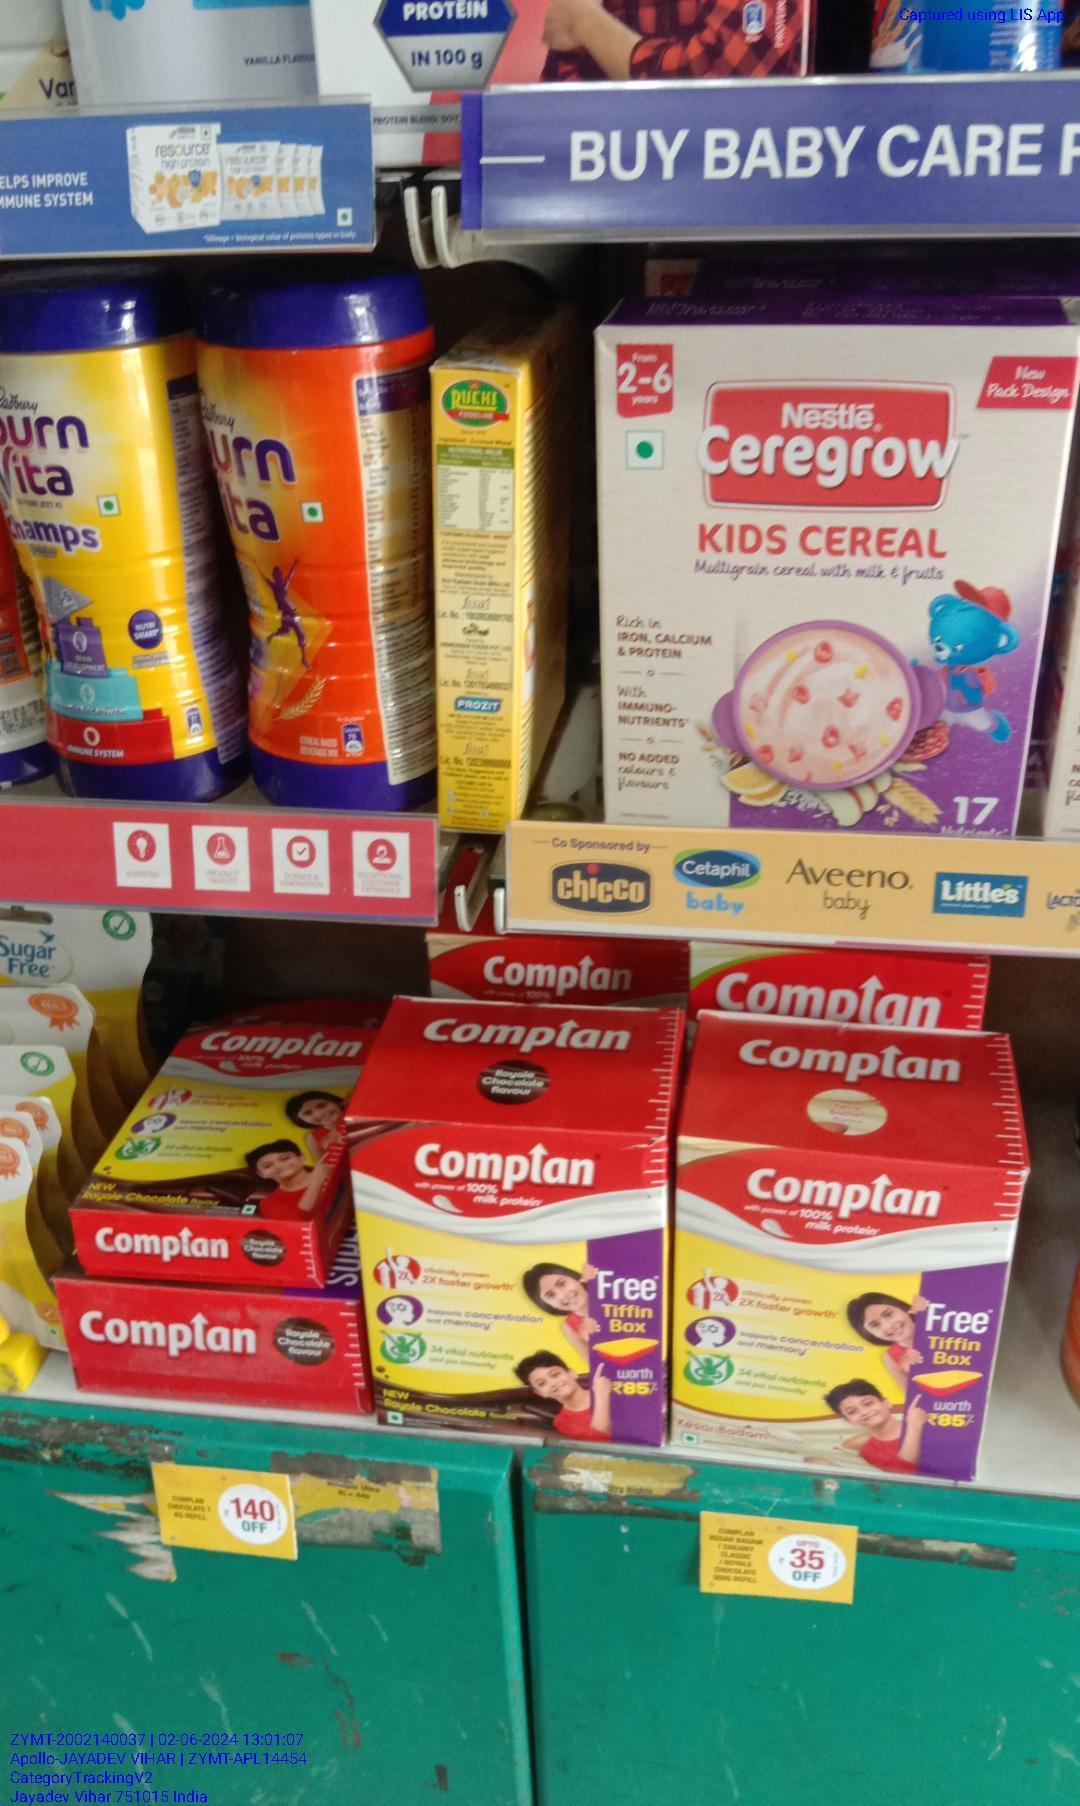BOURN_VITA_CHAMPS_500_G_JAR: (36, 283, 183, 785)
